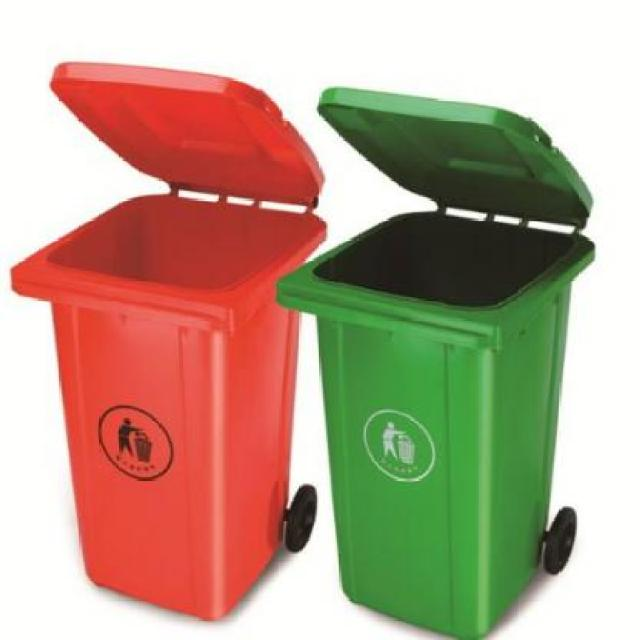garbage container: (268, 77, 604, 638), (7, 55, 331, 634)
